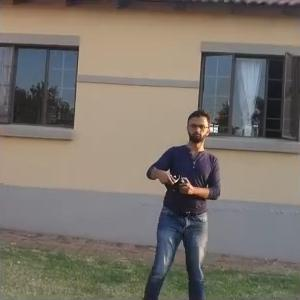follow: (138, 102, 222, 298)
